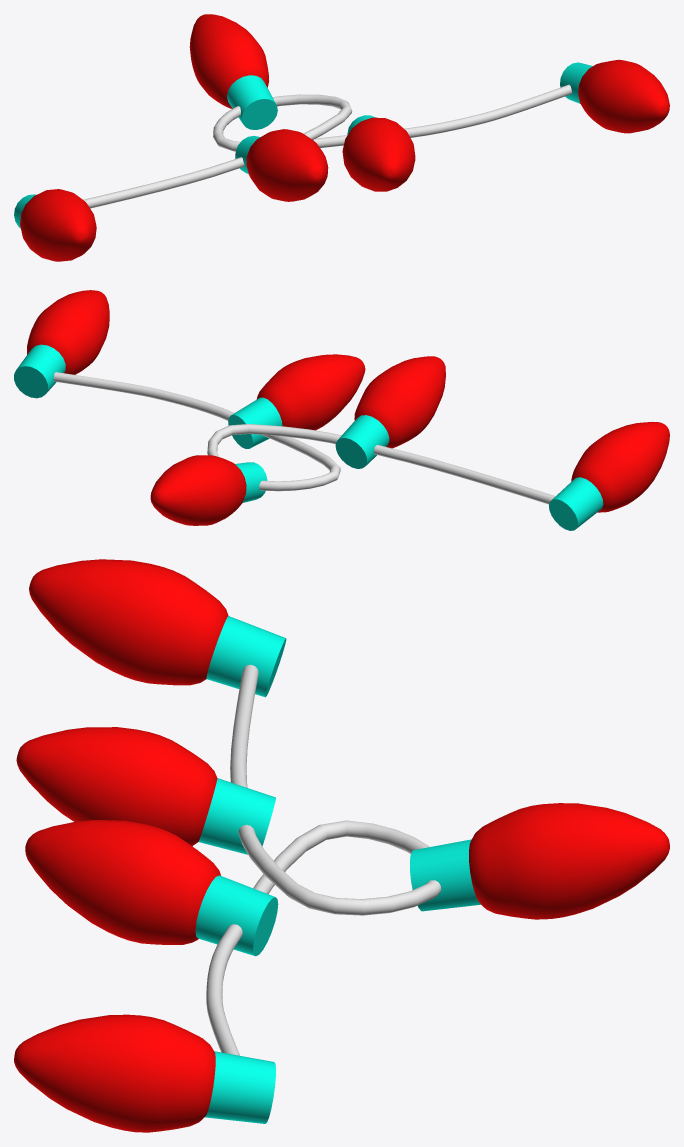
The model's file is ChristmasLight2.fbx.
3 views of the same model, one above another, from view 1: azimuth 30°, elevation 25°; view 2: azimuth 150°, elevation 25°; view 3: azimuth 270°, elevation 25° (orthographic). The views are drawn at different scales.
Visible parts, largest first — view 1: Object009, Object010, Line005, Object007, Cylinder014, Object008; view 2: Cylinder014, Object007, Line005, Object008, Object010, Object009; view 3: Object010, Cylinder014, Object008, Object009, Object007, Line005.
Part boxes in pixels (x1,y1,x2,y2): Object009: [189, 14, 277, 129]; Object010: [560, 59, 669, 133]; Line005: [83, 84, 571, 208]; Object007: [235, 129, 328, 201]; Cylinder014: [14, 189, 96, 261]; Object008: [342, 115, 415, 191]; Cylinder014: [549, 421, 669, 530]; Object007: [335, 356, 445, 468]; Line005: [53, 372, 555, 504]; Object008: [228, 354, 365, 448]; Object010: [14, 290, 109, 398]; Object009: [150, 455, 267, 525]; Object010: [14, 1014, 275, 1132]; Cylinder014: [29, 559, 286, 697]; Object008: [25, 820, 278, 956]; Object009: [410, 803, 669, 919]; Object007: [16, 727, 275, 854]; Line005: [206, 664, 441, 1055].
Bounding box in the file's own units: 442 × 54.25 × 249.
